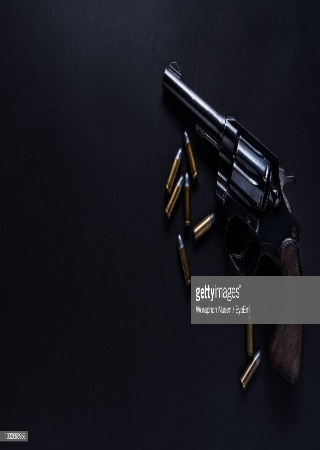handgun: (160, 54, 308, 385)
